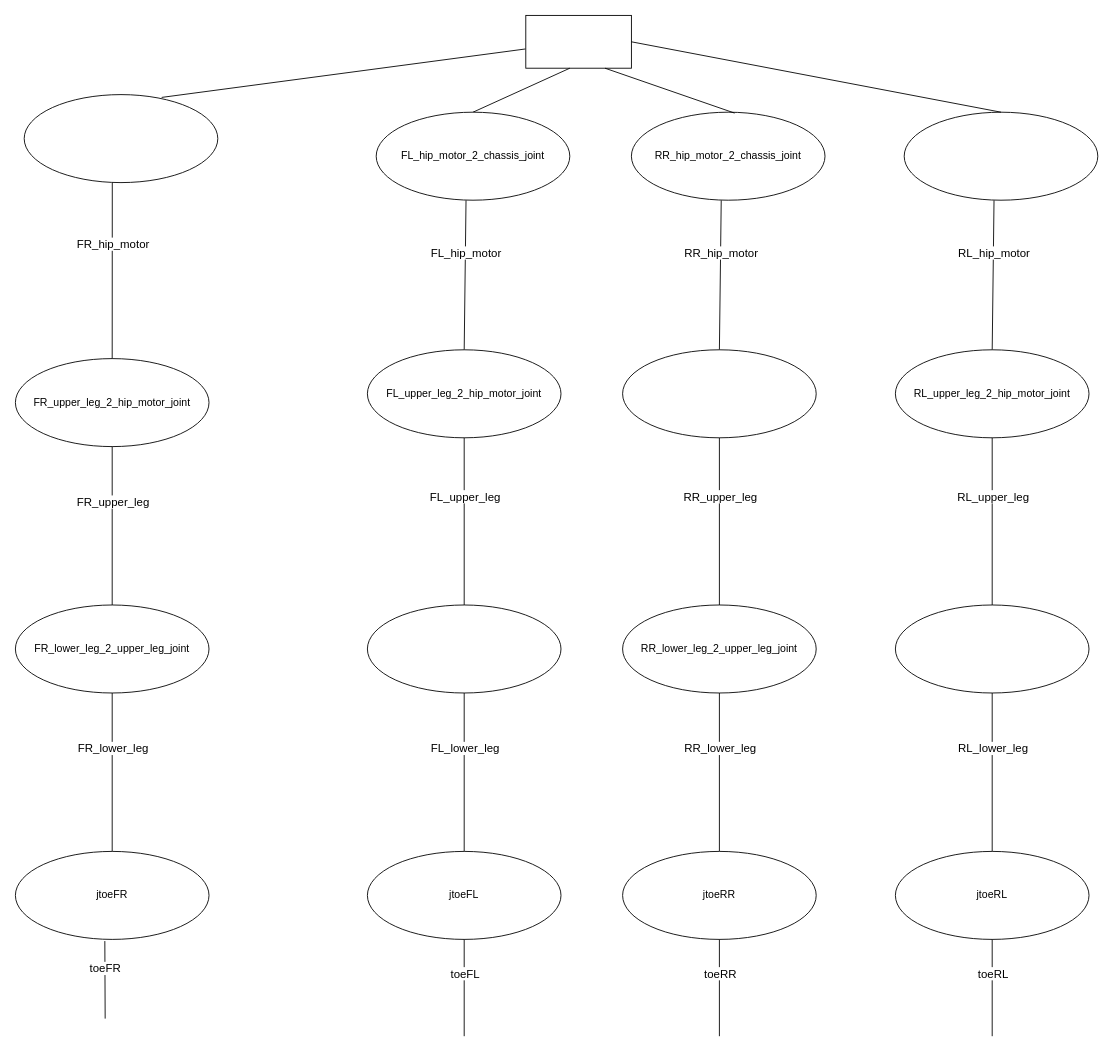
The diagram is 1113 pixels wide and 1052 high, and some of its shapes have lost their labels. Each missing label, with the centre of its shape:
chassis: pixel 578 41
FL_lower_leg_2_upper_leg_joint: pixel 464 648
FR_hip_motor_2_chassis_joint: pixel 120 138
RL_hip_motor_2_chassis_joint: pixel 1000 155
RL_lower_leg_2_upper_leg_joint: pixel 992 648
RR_upper_leg_2_hip_motor_joint: pixel 719 393
